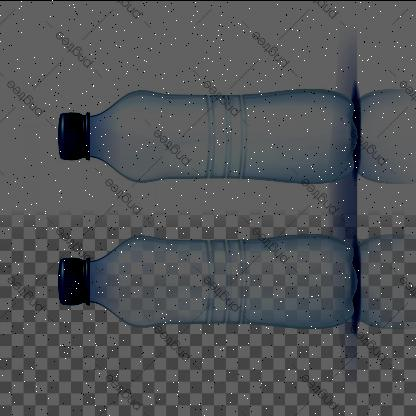Plastic Bottle: (58, 233, 358, 328), (58, 88, 358, 182)
